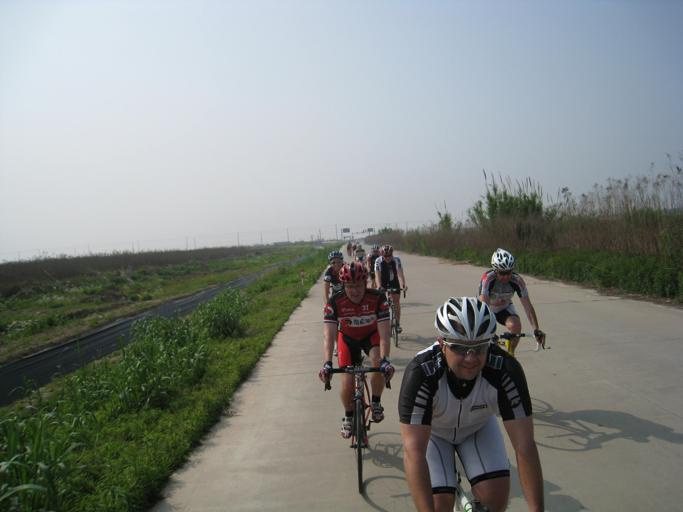non-vehicle: (320, 360, 393, 493), (448, 468, 492, 511), (491, 327, 552, 358), (380, 284, 408, 346), (353, 257, 366, 268)
